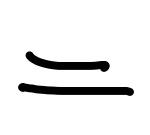eqv: (15, 48, 135, 97)
